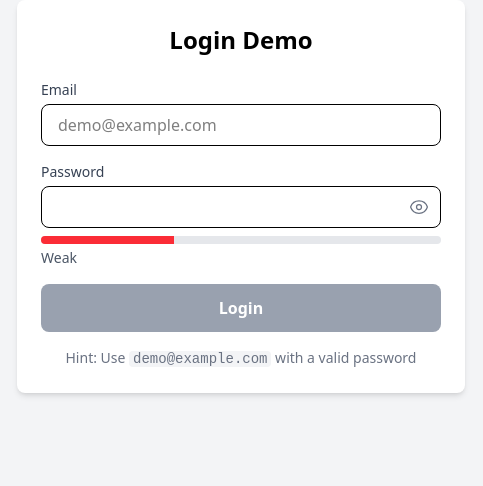
it: LoginDemo › login simulation › shows error message with invalid credentials
Type "wrong@example.com" into the field labelled "Email" at (241, 125), box [41,104,441,146]
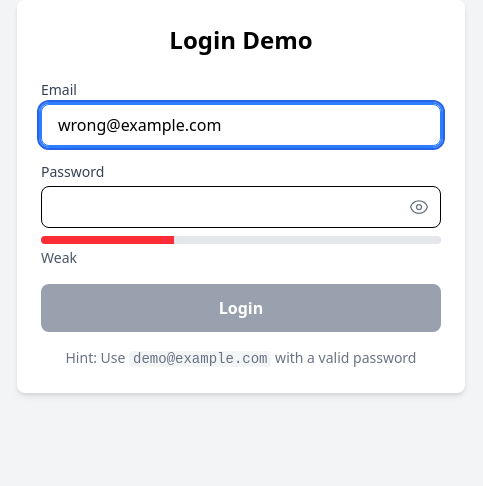
Type "SecurePass123!" into the password field named "Password" at (241, 207), box [41,186,441,228]
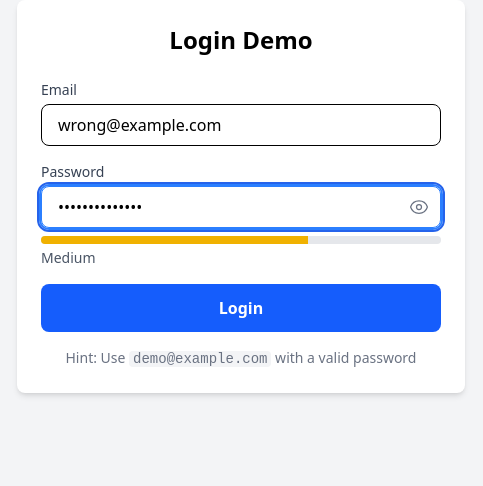
Click the button "Login" at (241, 308), box [41,284,441,332]
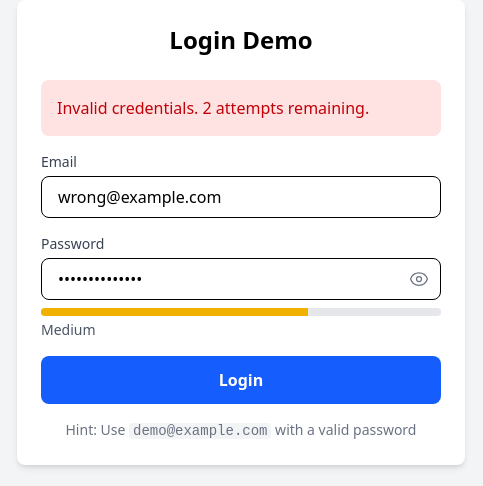
Result: the text "Invalid credentials. 2 attempts remaining." is shown at [41,80,441,136]
